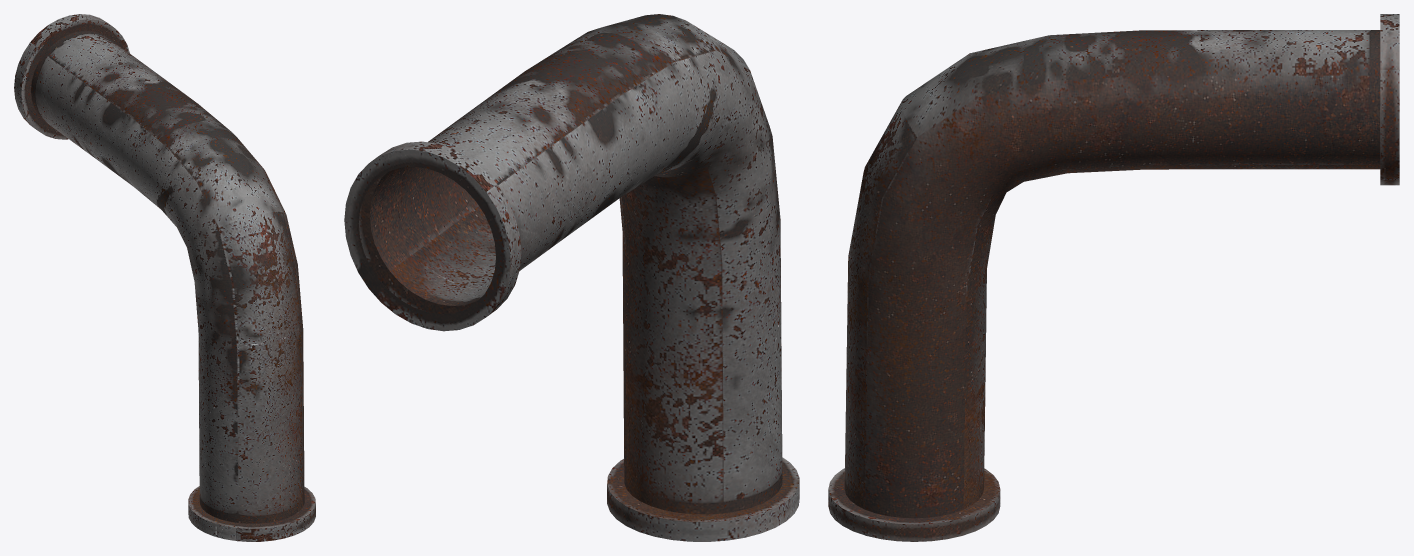
The model's file is Pipeturn.fbx.
3 renders of one model, left to right at view 1: azimuth 30°, elevation 25°; view 2: azimuth 150°, elevation 25°; view 3: azimuth 270°, elevation 25°, orthographic. The views are drawn at different scales.
Parts seen in each view (by area): view 1: Cylinder.004; view 2: Cylinder.004; view 3: Cylinder.004.
Boxes of the visible parts, box(x1,y1,x2,y2) form: Cylinder.004: box(14, 14, 315, 541); Cylinder.004: box(344, 14, 799, 541); Cylinder.004: box(828, 14, 1399, 541).
Size of the model in its own units: 7.84 by 24.83 by 26.52.
1 material, 1 textured.
